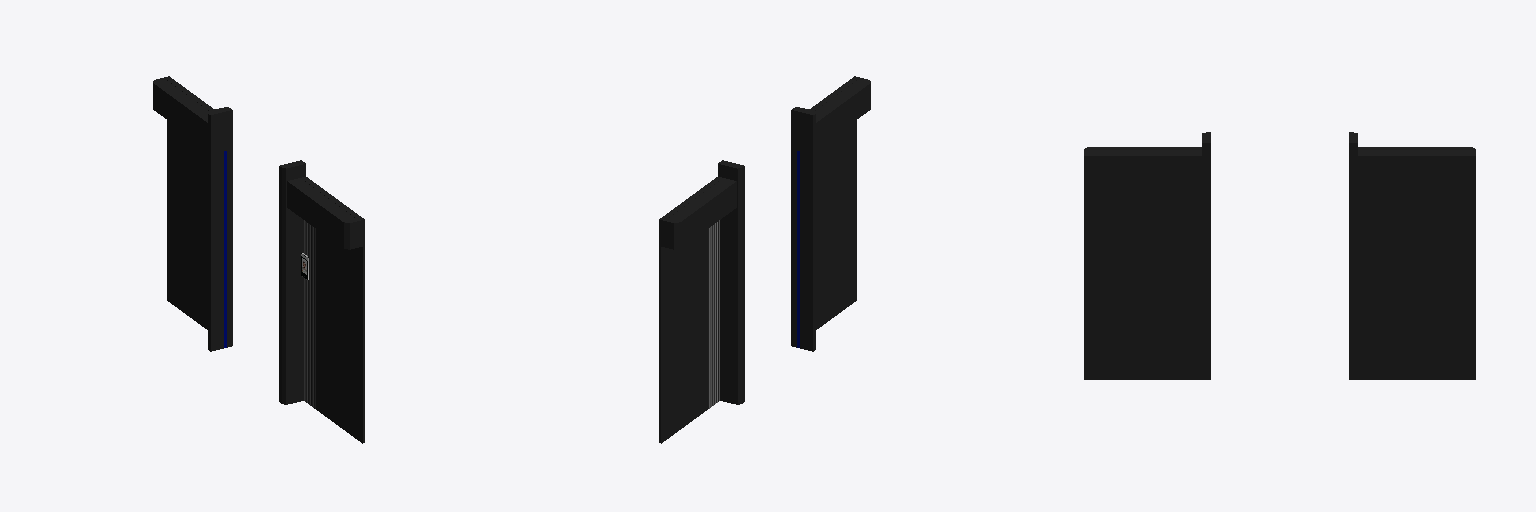
3 renders of one model, left to right at view 1: azimuth 30°, elevation 25°; view 2: azimuth 150°, elevation 25°; view 3: azimuth 270°, elevation 25°, orthographic.
Visible parts, largest first — view 1: Rectangle004, Rectangle002, menkuang_007, menkuang_008, Line002, Line001; view 2: Rectangle002, Rectangle004, menkuang_008, menkuang_007, Line001, Line002; view 3: Rectangle002, Rectangle004, Rectangle001, Rectangle003, menkuang_007, menkuang_008, Line001, Line002.
Part boxes in pixels (left/top/right/bottom): Rectangle004: left=304, top=220, right=364, bottom=443; Rectangle002: left=167, top=120, right=207, bottom=329; menkuang_007: left=208, top=107, right=232, bottom=351; menkuang_008: left=279, top=160, right=305, bottom=404; Line002: left=287, top=178, right=358, bottom=249; Line001: left=153, top=78, right=207, bottom=148; Rectangle002: left=659, top=220, right=719, bottom=443; Rectangle004: left=816, top=120, right=856, bottom=329; menkuang_008: left=791, top=107, right=815, bottom=351; menkuang_007: left=718, top=160, right=744, bottom=404; Line001: left=665, top=178, right=736, bottom=249; Line002: left=816, top=78, right=870, bottom=148; Rectangle002: left=1358, top=183, right=1475, bottom=379; Rectangle004: left=1084, top=183, right=1201, bottom=379; Rectangle001: left=1358, top=153, right=1475, bottom=182; Rectangle003: left=1084, top=153, right=1201, bottom=182; menkuang_007: left=1349, top=132, right=1357, bottom=379; menkuang_008: left=1202, top=132, right=1210, bottom=379; Line001: left=1358, top=147, right=1475, bottom=152; Line002: left=1084, top=147, right=1201, bottom=152.
Size of the model in its own units: 23.6 by 240 by 360.
Materials: 4 (2 with a texture image).